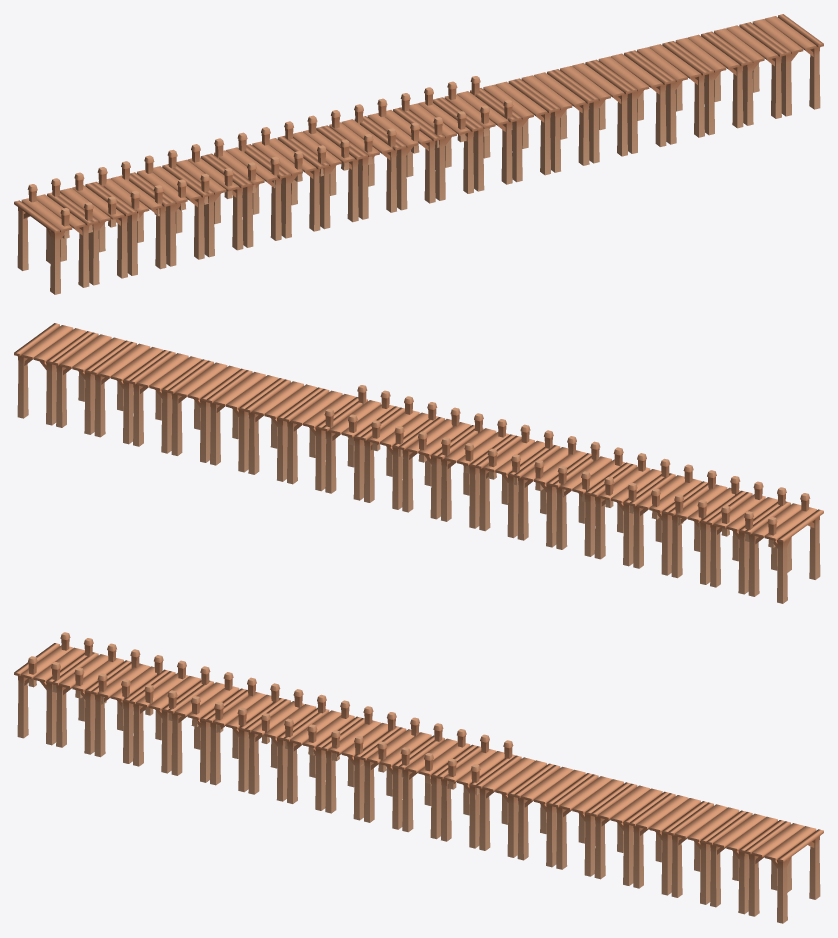
File: platform.fbx
3 views of the same model, one above another, from view 1: azimuth 30°, elevation 25°; view 2: azimuth 150°, elevation 25°; view 3: azimuth 330°, elevation 25° (orthographic).
Visible parts, largest first — view 1: structure-platform-small, structure-platform-dock.001; view 2: structure-platform-small, structure-platform-dock.001; view 3: structure-platform-small, structure-platform-dock.001.
Boxes of the visible parts, bbox=[...] form: structure-platform-small: bbox=[14, 14, 823, 294]; structure-platform-dock.001: bbox=[27, 76, 513, 238]; structure-platform-small: bbox=[14, 323, 823, 603]; structure-platform-dock.001: bbox=[324, 385, 810, 547]; structure-platform-small: bbox=[14, 643, 823, 923]; structure-platform-dock.001: bbox=[28, 632, 513, 795].
Bounding box in the file's own units: 3800 × 381 × 349.
